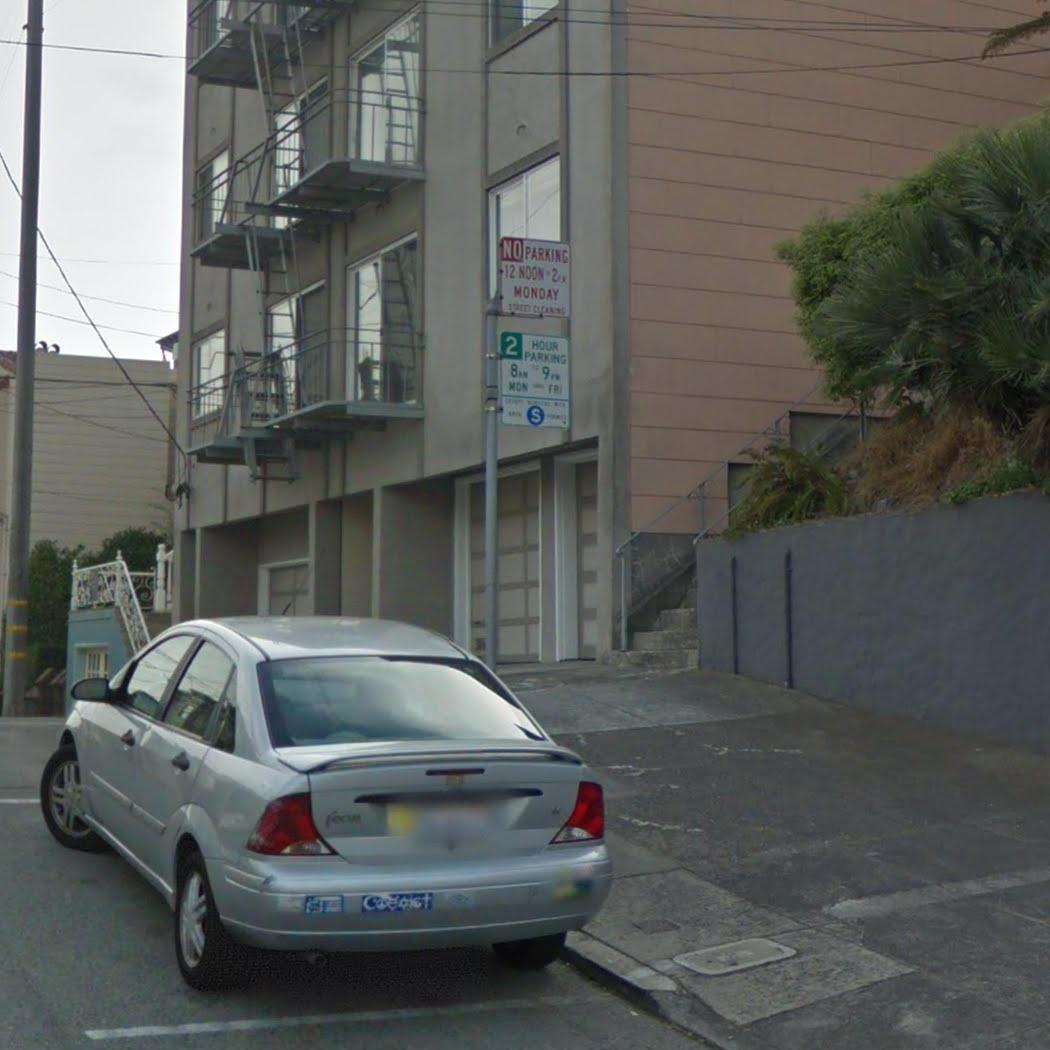2 Hour Parking: (491, 327, 575, 432)
No Parking: (490, 234, 576, 323)
